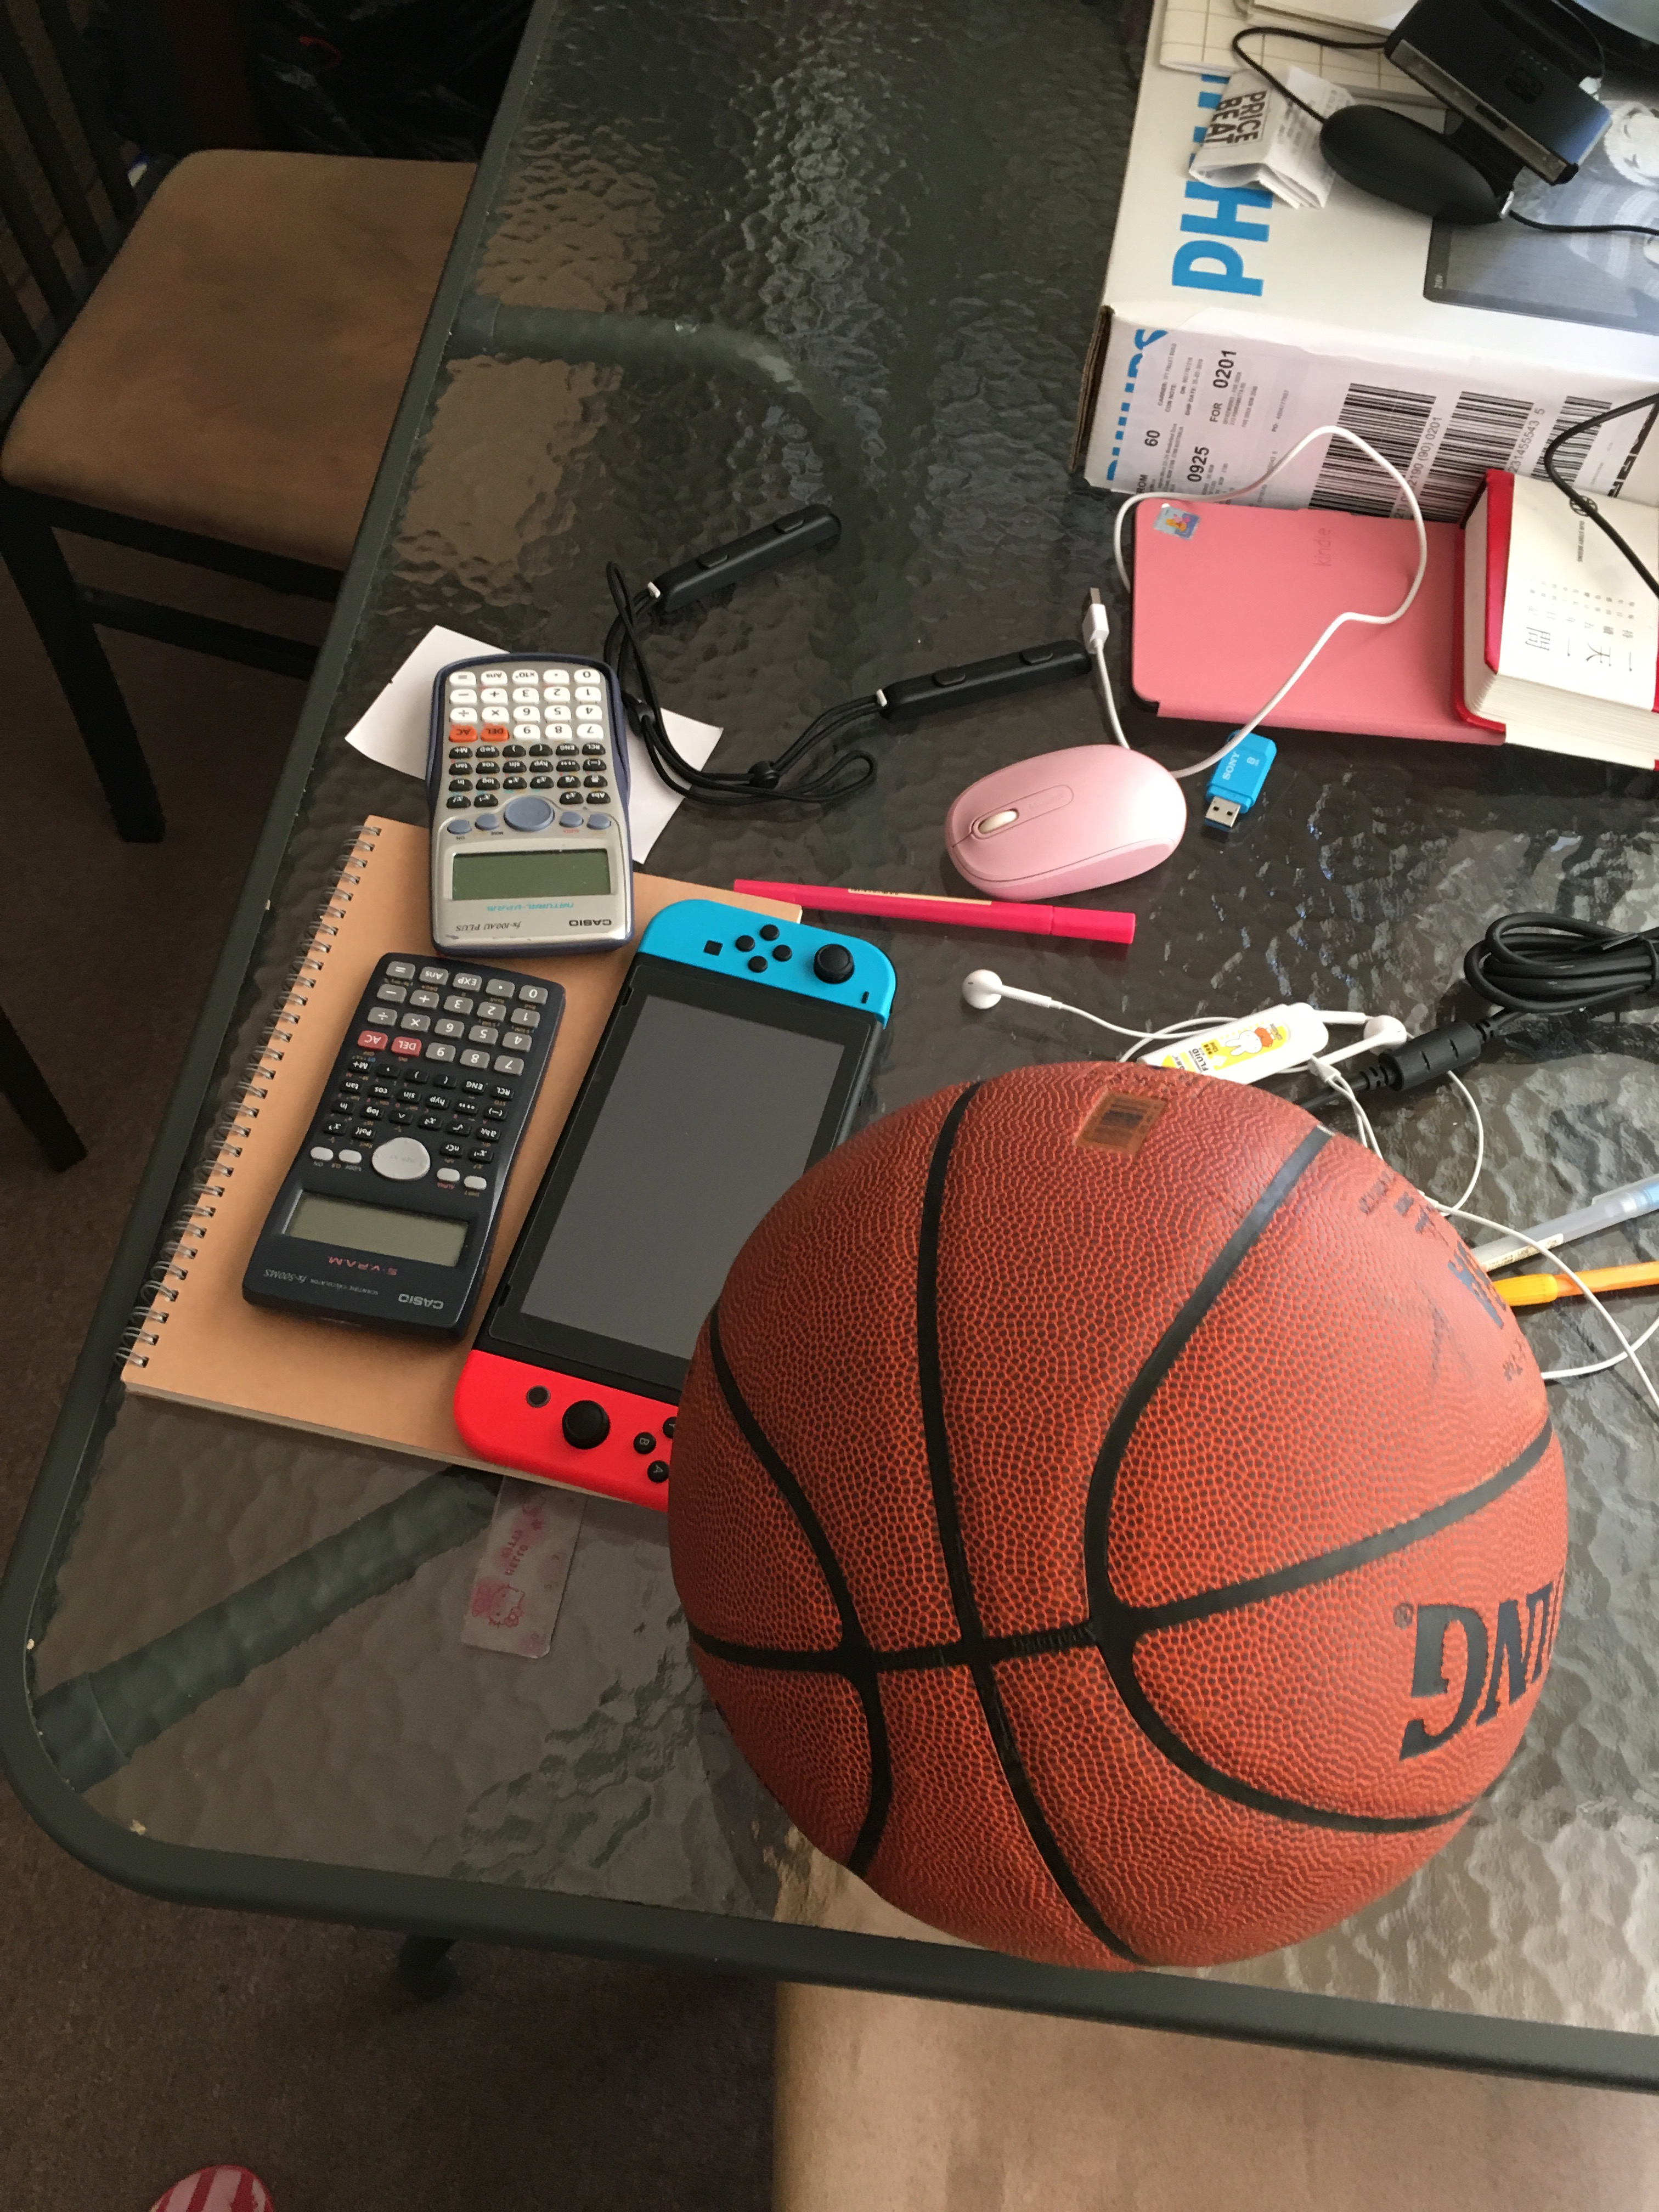Basketball: (653, 1040, 1581, 1986)
Calculator: (244, 942, 572, 1353), (422, 641, 653, 970)
NintendoSwitch: (444, 892, 918, 1519)
